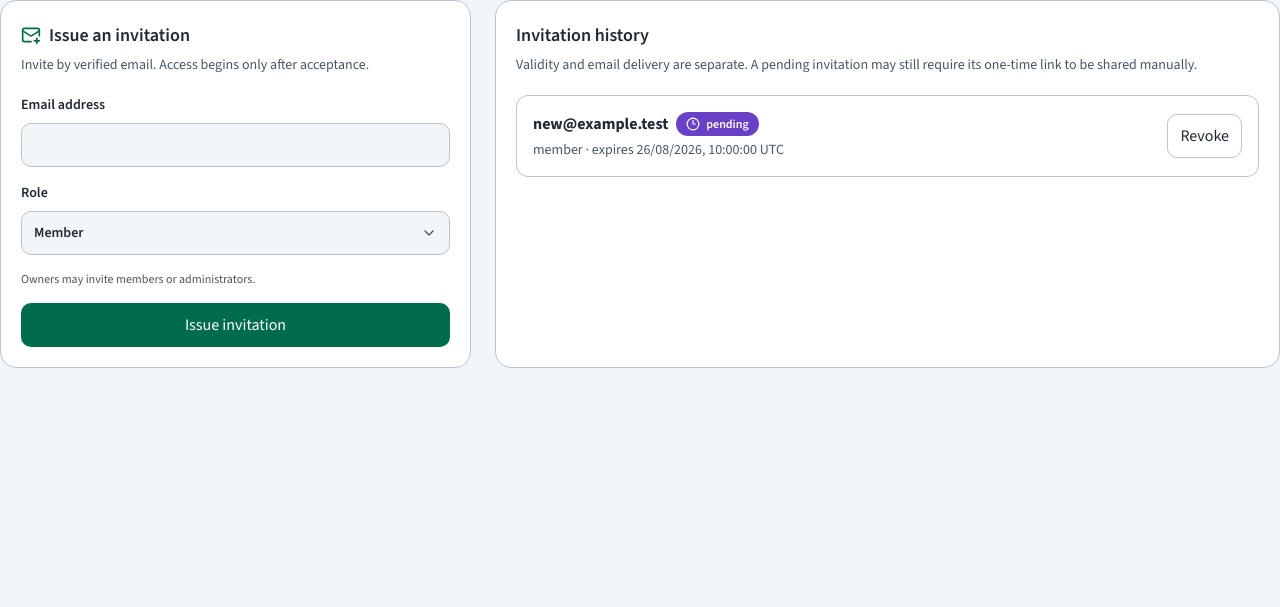
Test: WorkspaceAdministration › keeps the one-time invitation link bounded and exposes an icon-labelled copy action
This screenshot has width=1280, height=607.
Type "invitee@example.test" into the field labelled "Email address". click: (236, 145)
box: [21,123,450,167]
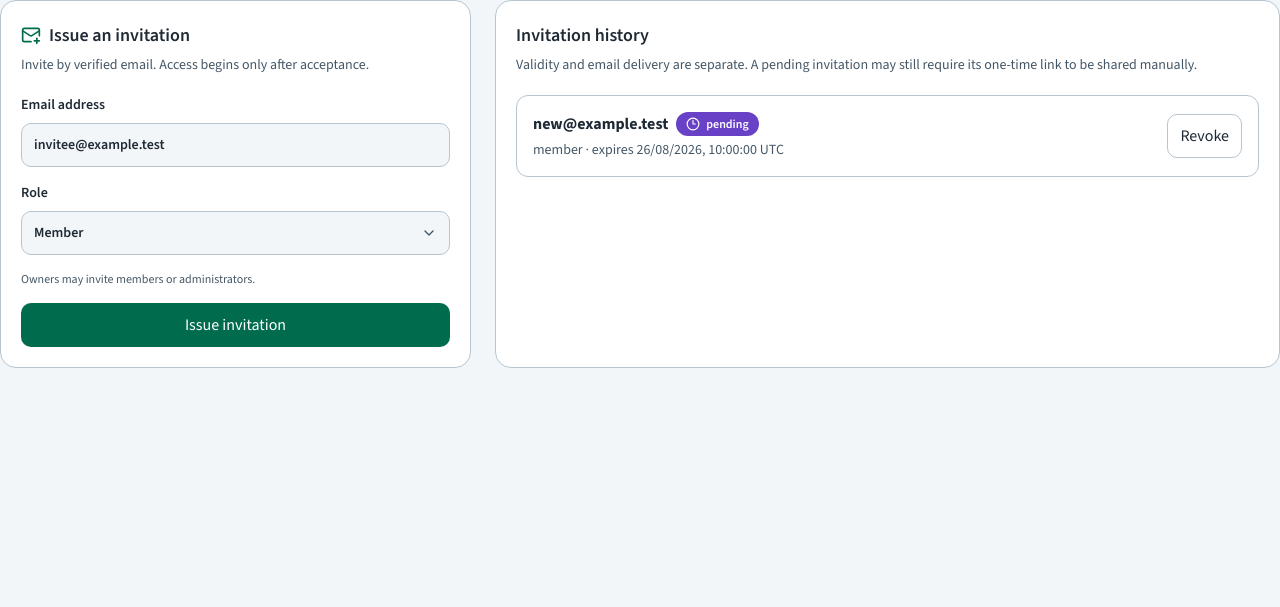
Click the button "Issue invitation". click: (236, 325)
box: [21,303,450,347]
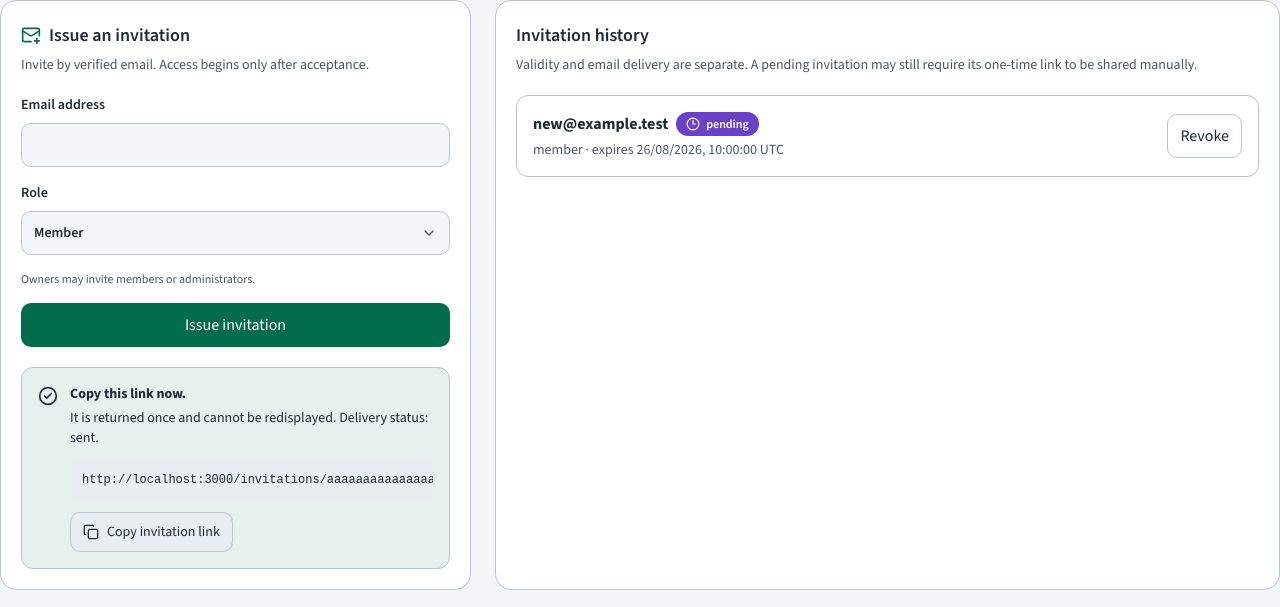
Result: the icon below "sent" is shown at [83,524,99,540]
